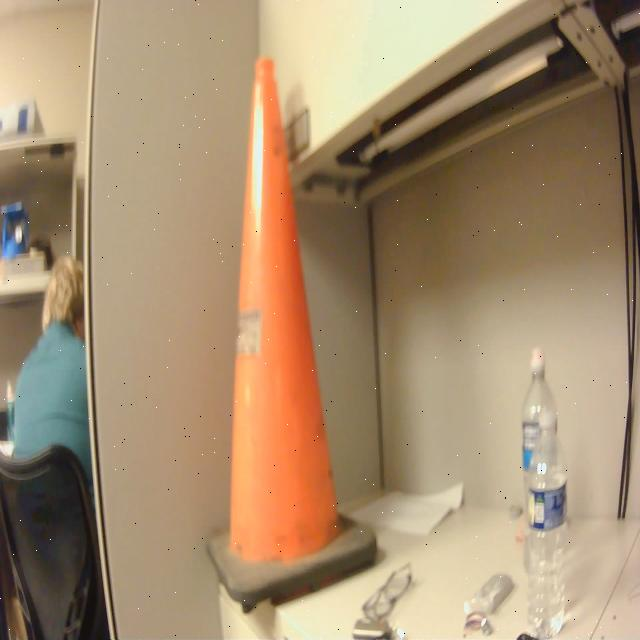traffic cone: (203, 55, 383, 622)
